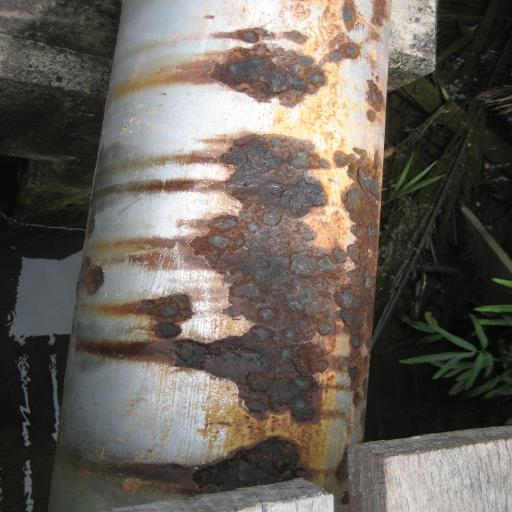segmentation: (49, 0, 391, 512), (208, 42, 326, 107), (137, 294, 193, 338), (260, 165, 302, 188), (271, 190, 295, 205), (235, 238, 244, 246)
